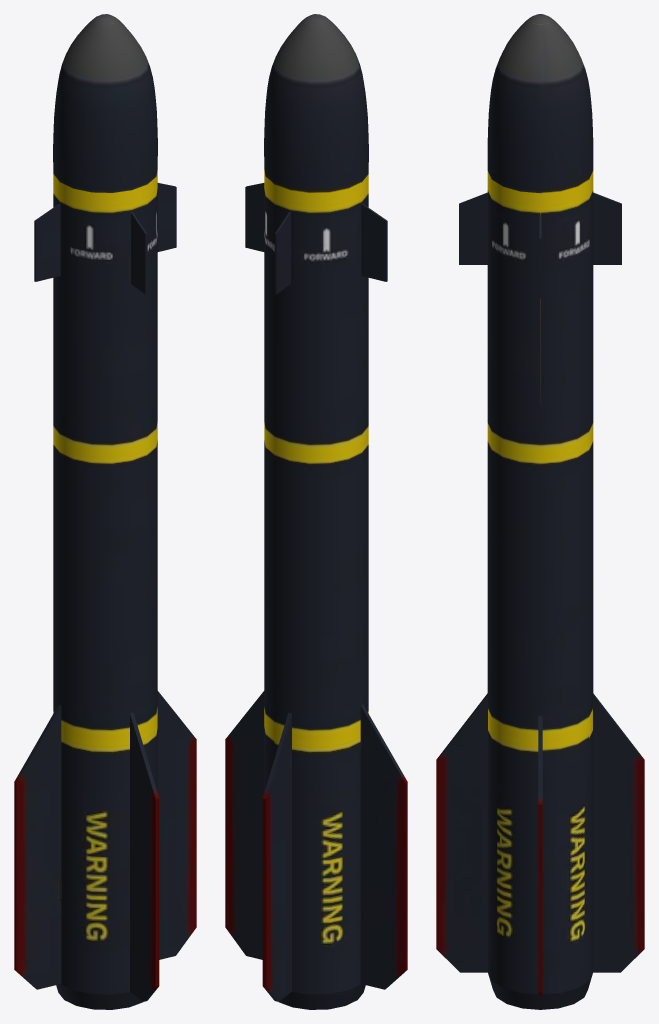
The model's file is hellfire.glb.
3 renders of one model, left to right at view 1: azimuth 30°, elevation 25°; view 2: azimuth 150°, elevation 25°; view 3: azimuth 270°, elevation 25°, orthographic.
Parts seen in each view (by area): view 1: Hellfire__0; view 2: Hellfire__0; view 3: Hellfire__0.
Boxes of the visible parts, <box> form: Hellfire__0: <box>14,14,196,1009</box>; Hellfire__0: <box>225,14,407,1009</box>; Hellfire__0: <box>436,14,644,1009</box>.
Size of the model in its own units: 28.14 by 145 by 28.14.
Materials: 1 (1 with a texture image).
